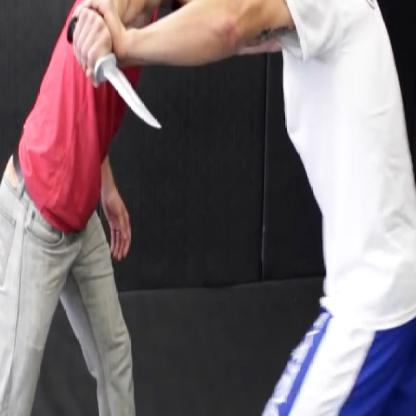knife: (63, 3, 168, 145)
